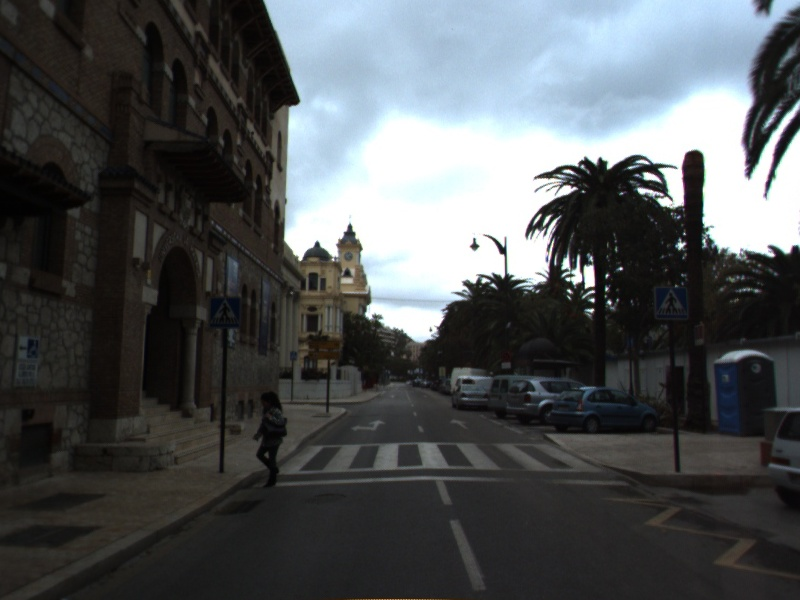STRAIGHT: (447, 416, 471, 431)
STRAIGHT_LEFT: (348, 418, 388, 434)
